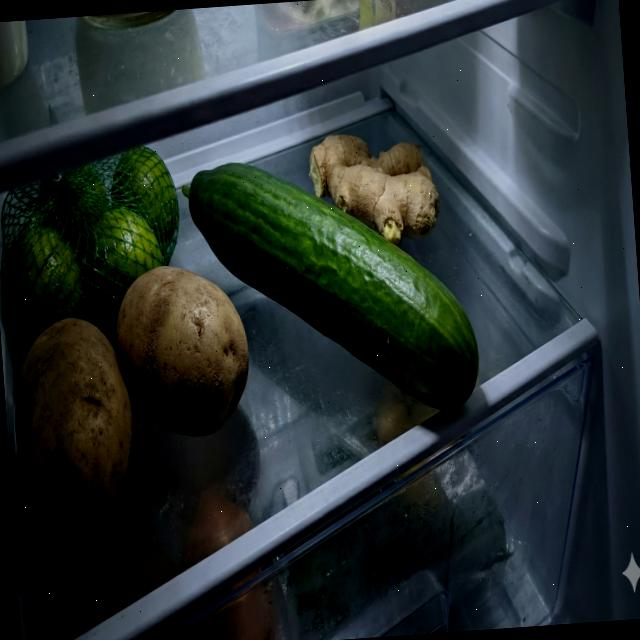cucumber: (178, 144, 482, 430)
ginger: (305, 125, 443, 252)
lime: (0, 143, 187, 344)
potato: (2, 259, 262, 550)
